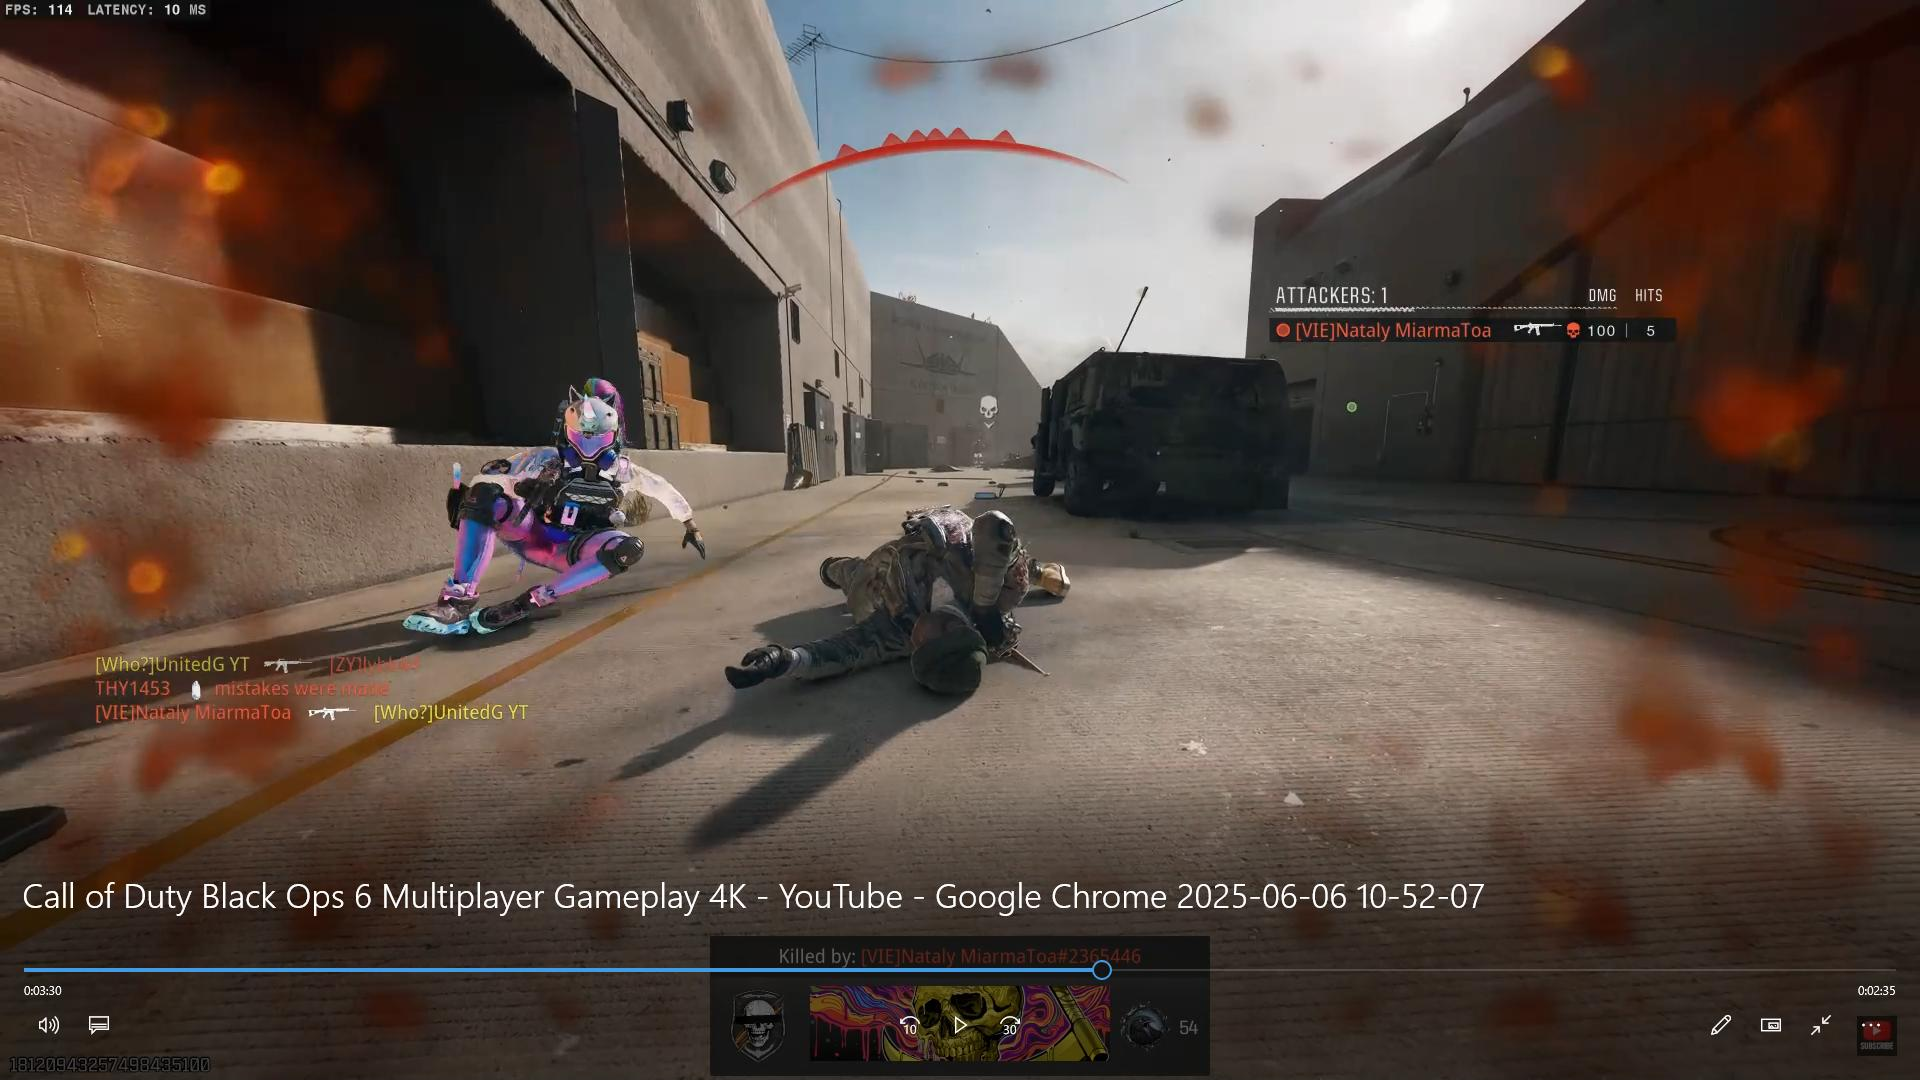Enemy: (409, 322, 700, 670)
